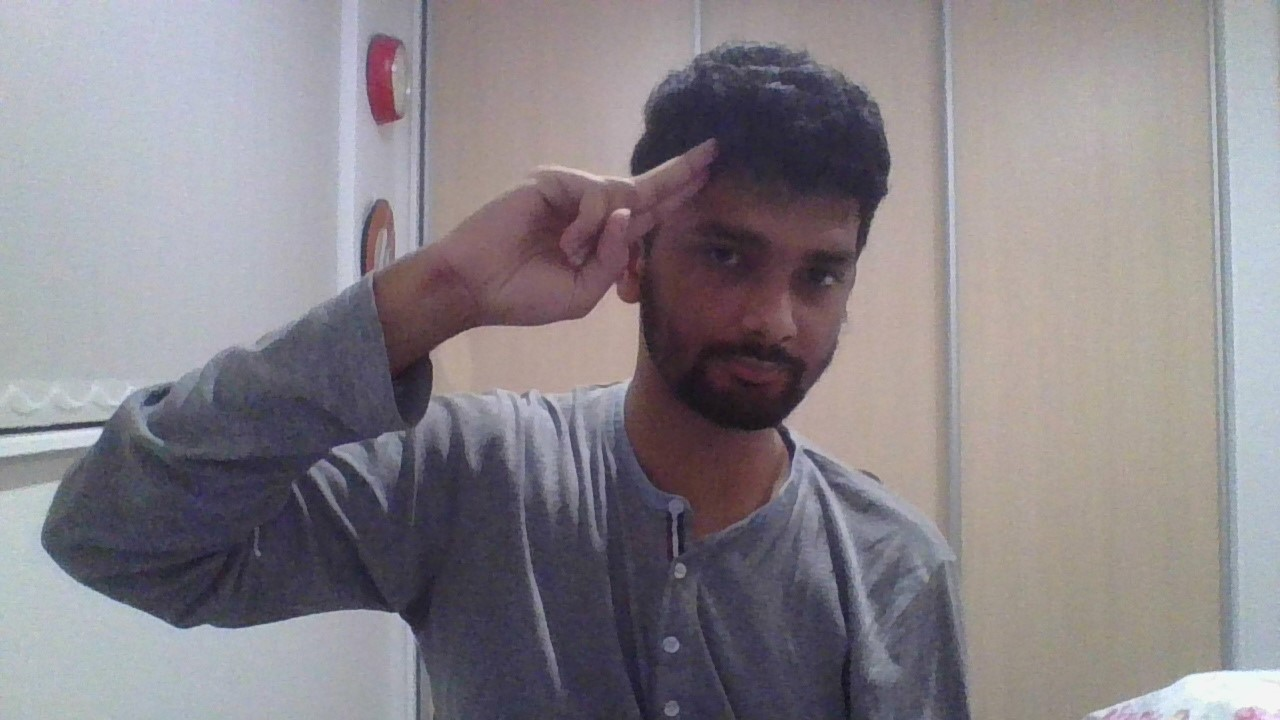peace: (438, 136, 714, 326)
